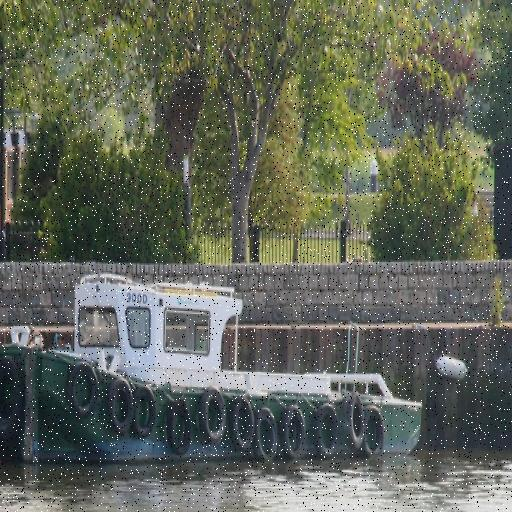tugboat: (1, 266, 427, 483)
